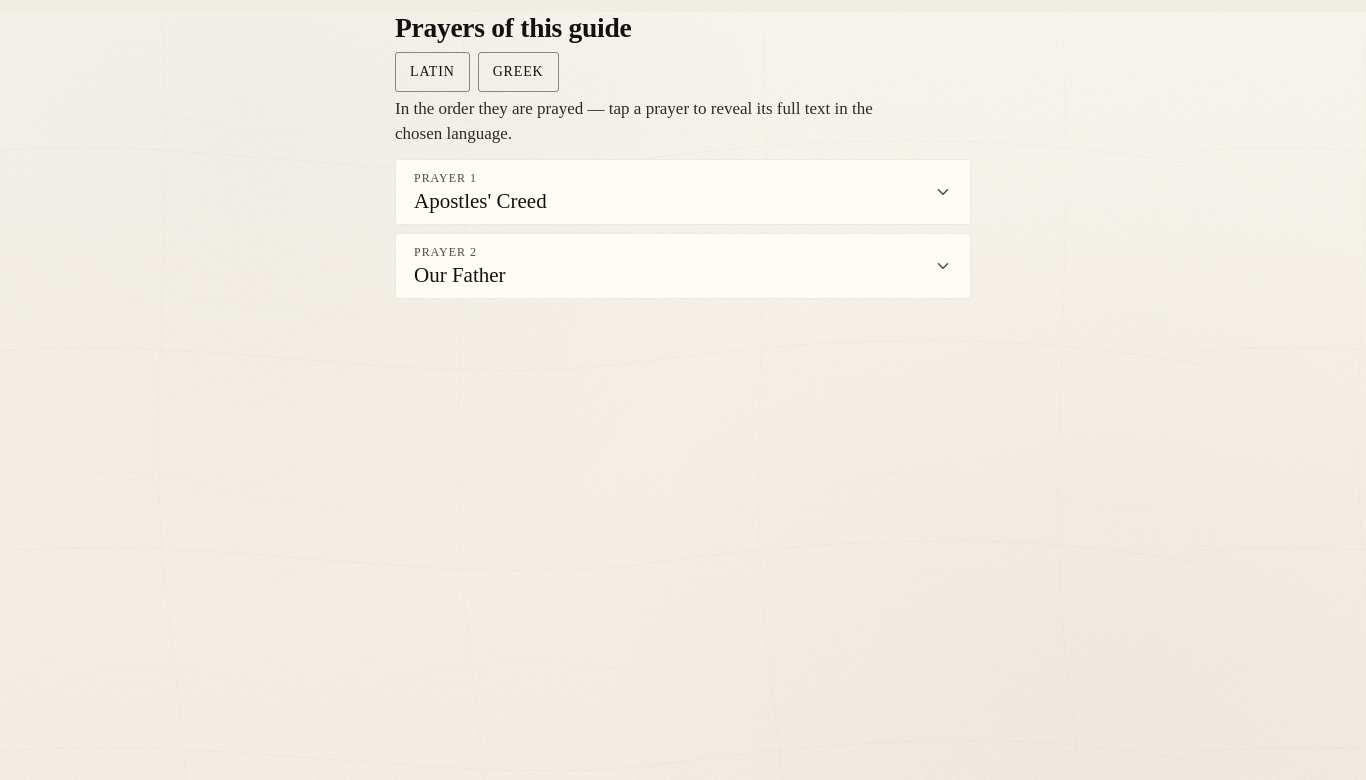
GuidePrayers › says under a dropdown when the chosen language is a machine translation
This screenshot has width=1366, height=780.
Click the button "Prayer 1 Apostles' Creed". click: click(445, 178)
box: [396,160,970,224]
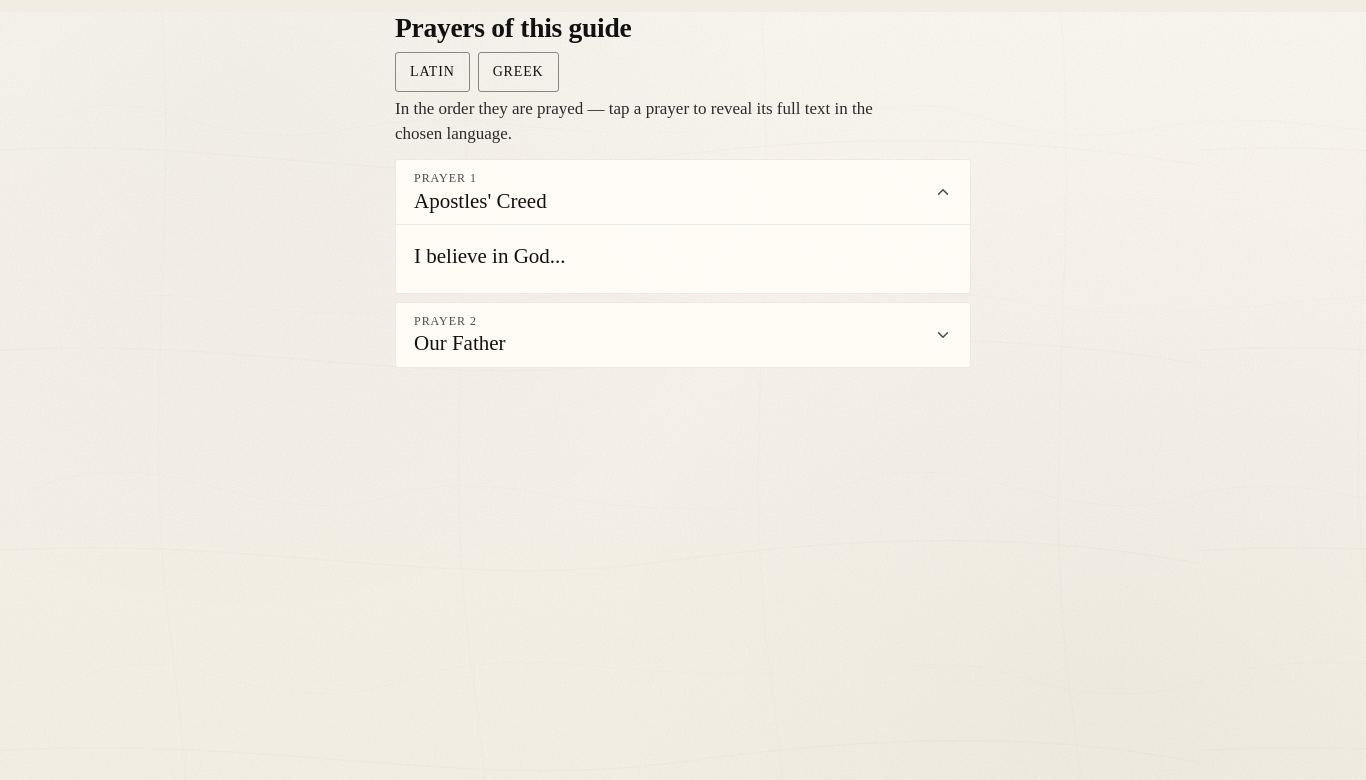
Click the button "Prayer 2 Our Father". click: click(445, 321)
box: [396,303,970,367]
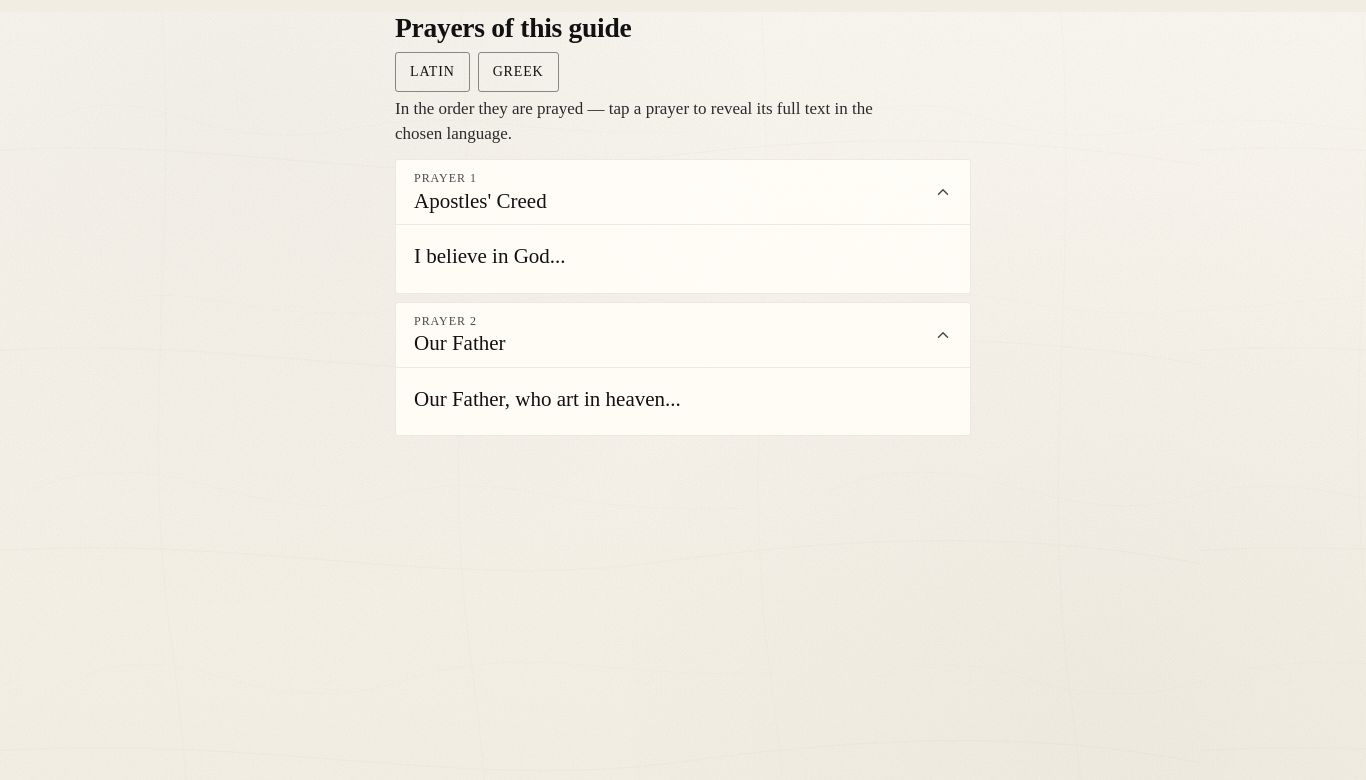
Expected: the text "Unofficial translation" is not shown
Click the button "Greek". click: click(518, 72)
box: [478,52,558,92]
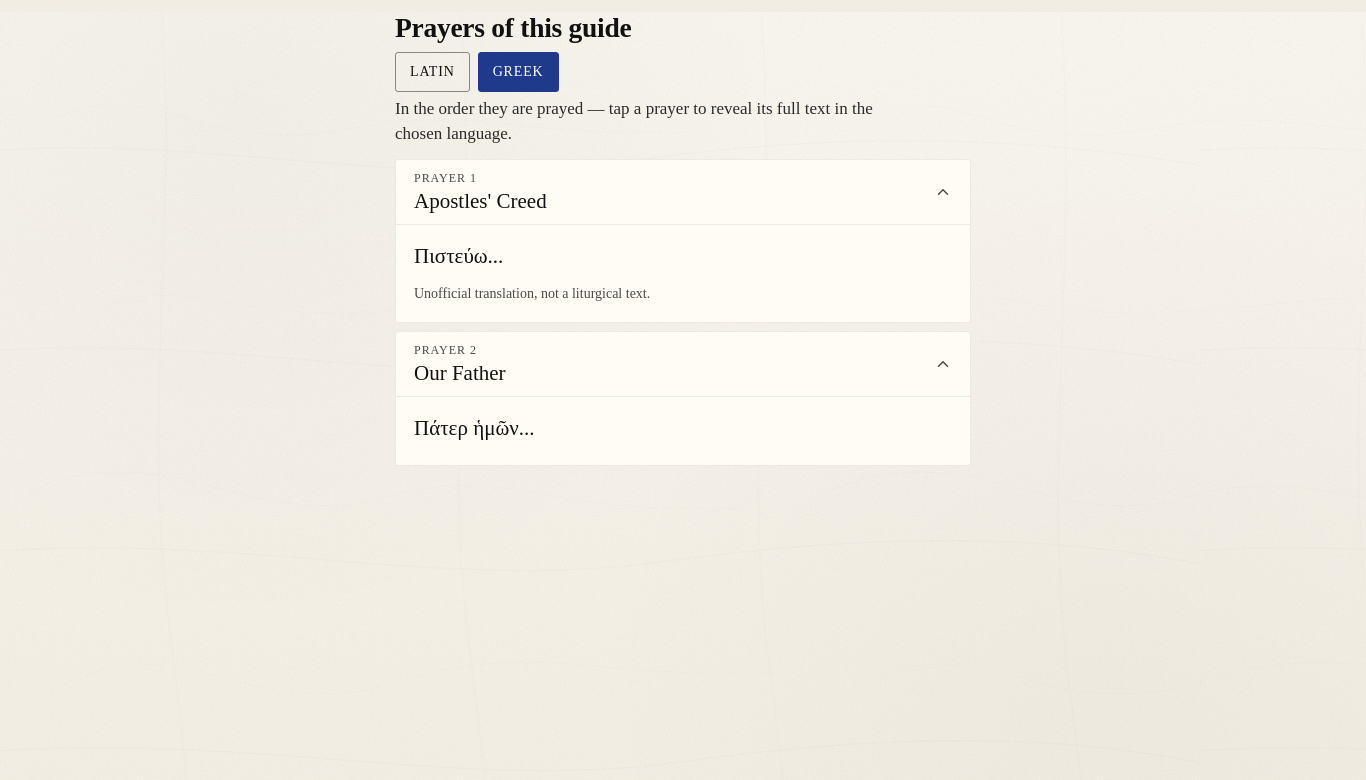
Expected: the text "Unofficial translation, not a liturgical text." is shown once, [414,286,650,301]
